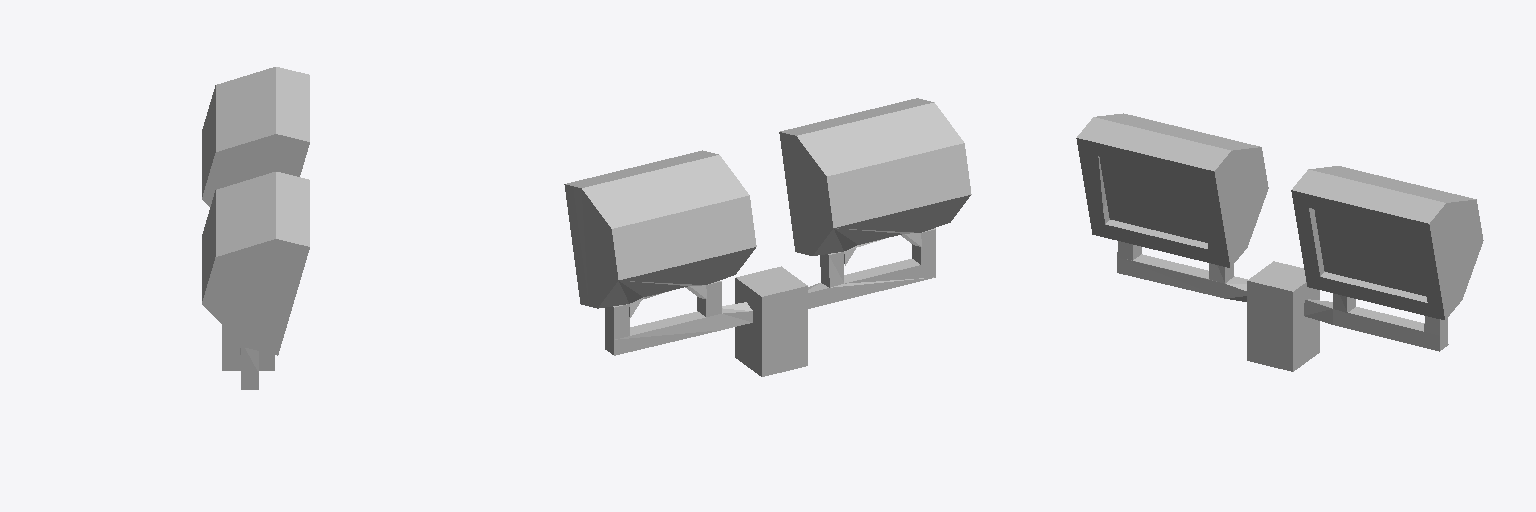
The model's file is floodlight.obj.
The picture shows the model from 3 angles: view 1: azimuth 30°, elevation 25°; view 2: azimuth 150°, elevation 25°; view 3: azimuth 270°, elevation 25°; orthographic projection.
Visible parts, largest first — view 1: floodlight; view 2: floodlight; view 3: floodlight.
Part boxes in pixels (x1,y1,x2,y2): floodlight: (202, 67, 309, 389); floodlight: (564, 98, 971, 376); floodlight: (1076, 113, 1483, 371).
Size of the model in its own units: 3.36 by 2.58 by 4.6.